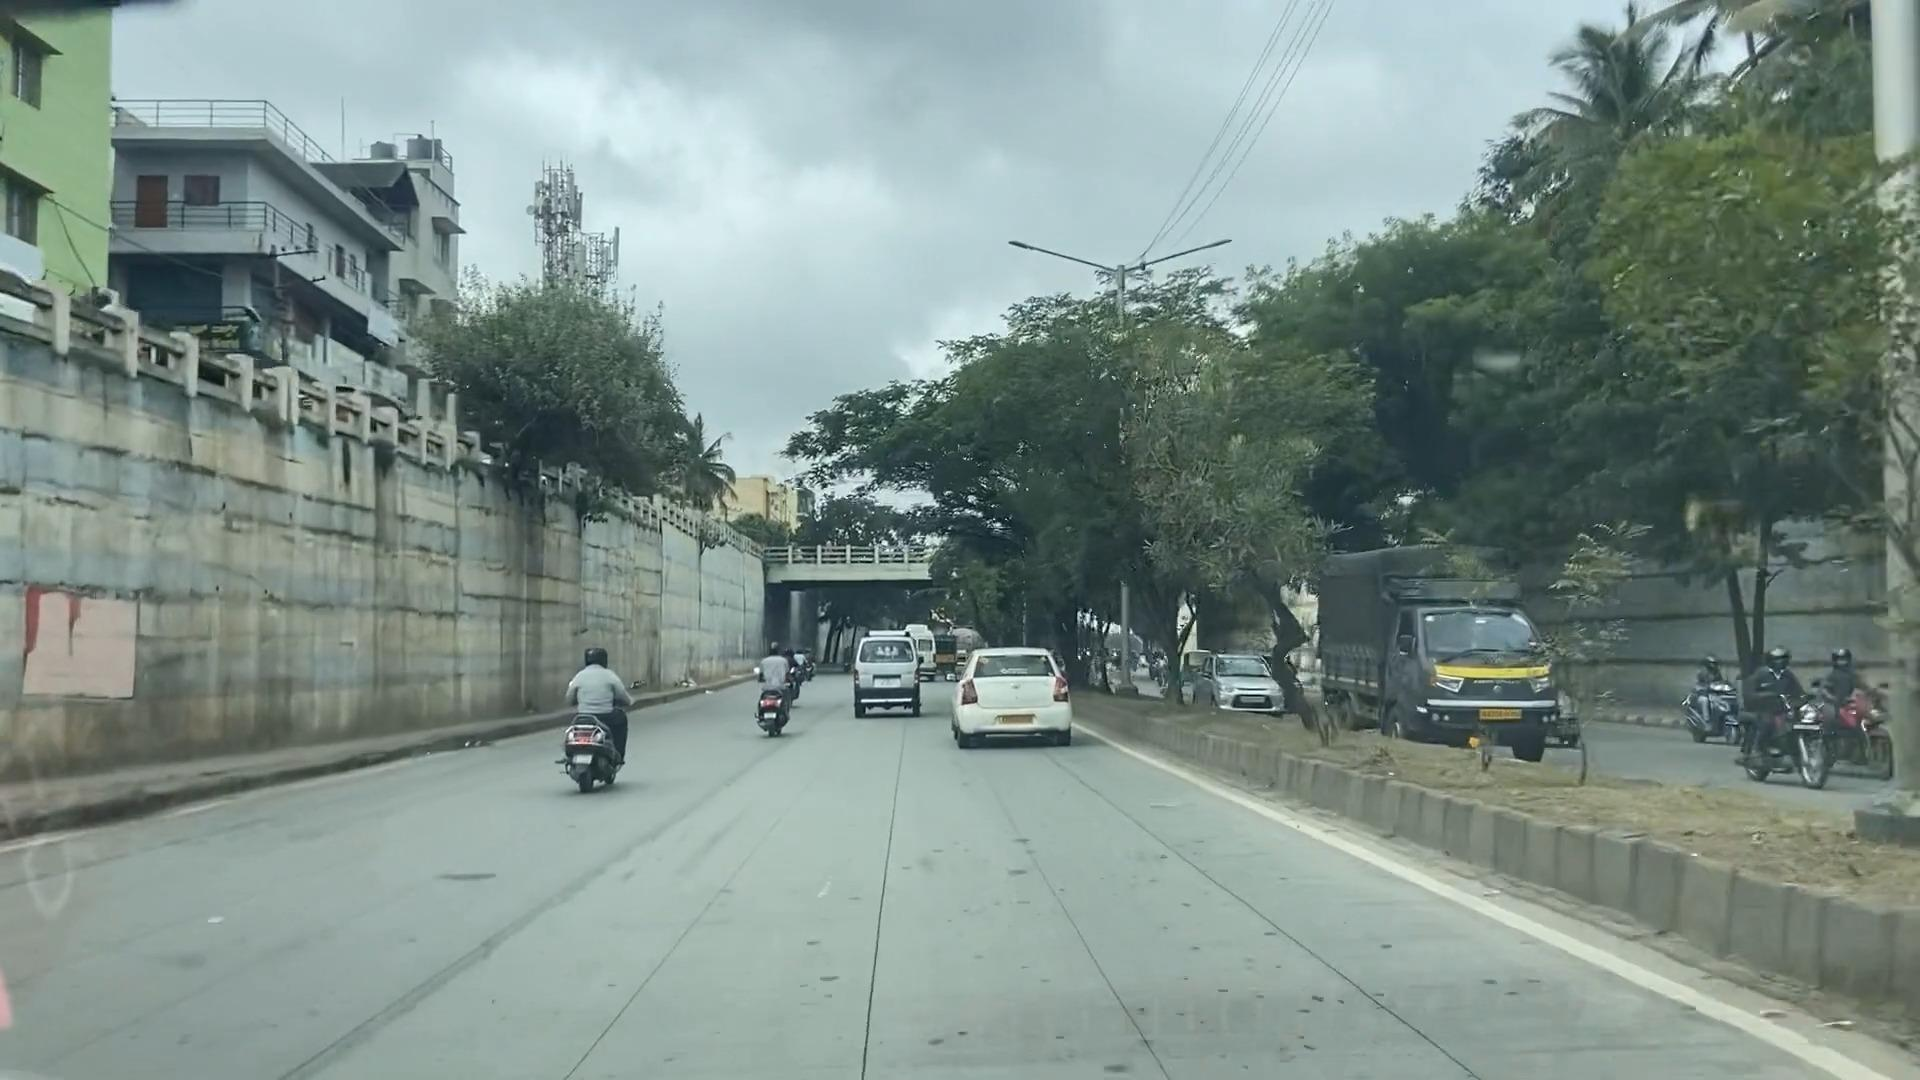LMV: (931, 653, 1100, 754), (566, 611, 647, 802)
